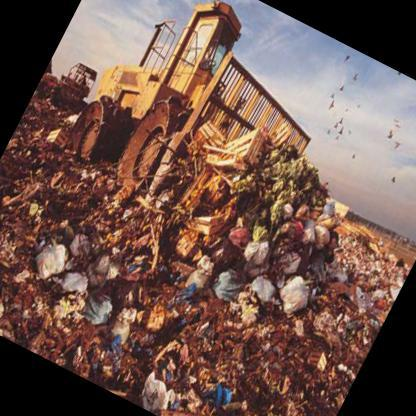Garbage: (224, 184, 330, 308), (13, 212, 119, 323), (127, 232, 220, 352), (221, 318, 334, 415), (117, 349, 196, 415)
